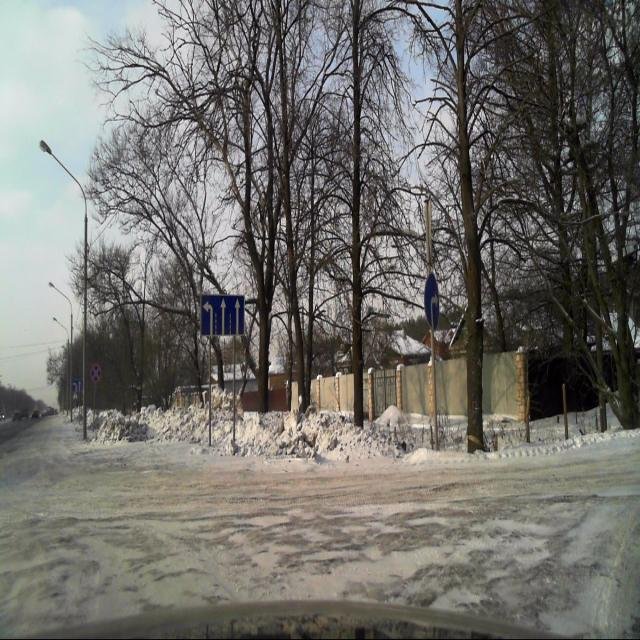road sign: (202, 292, 244, 335)
